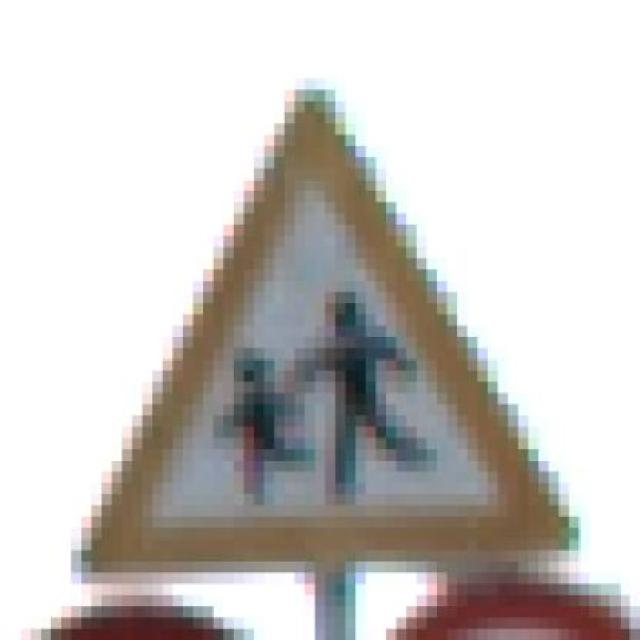Beware of children: (41, 78, 599, 584)
